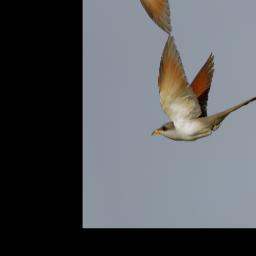Cuckoo: (133, 5, 256, 155)
